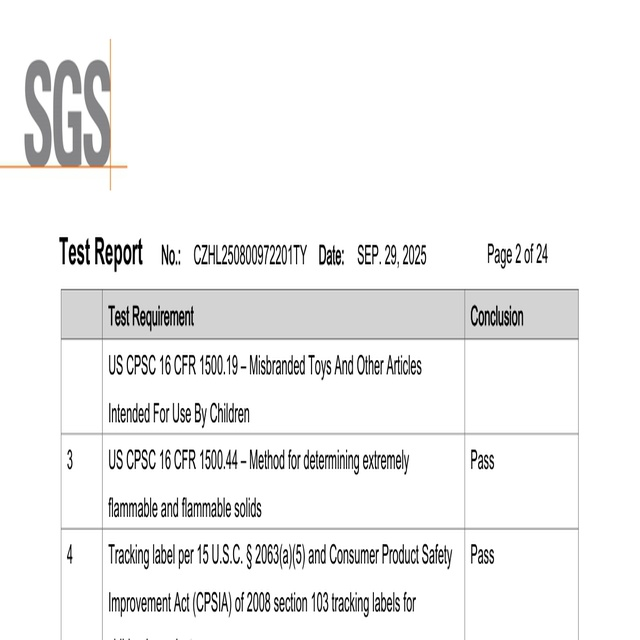sgs: (24, 60, 112, 168)
